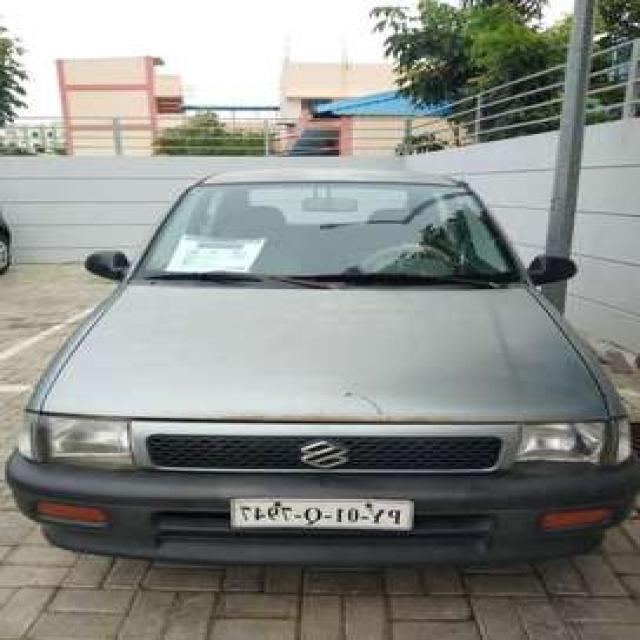license_plate: (223, 492, 417, 539)
